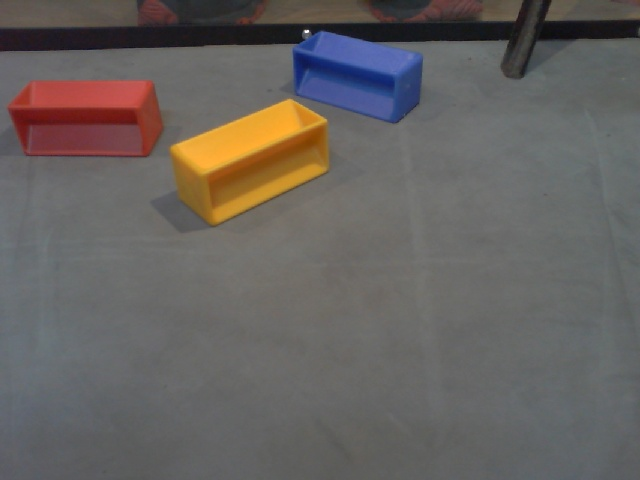BlueSample: (290, 29, 424, 127)
RedSample: (6, 74, 166, 163)
YellowSample: (167, 96, 331, 227)
